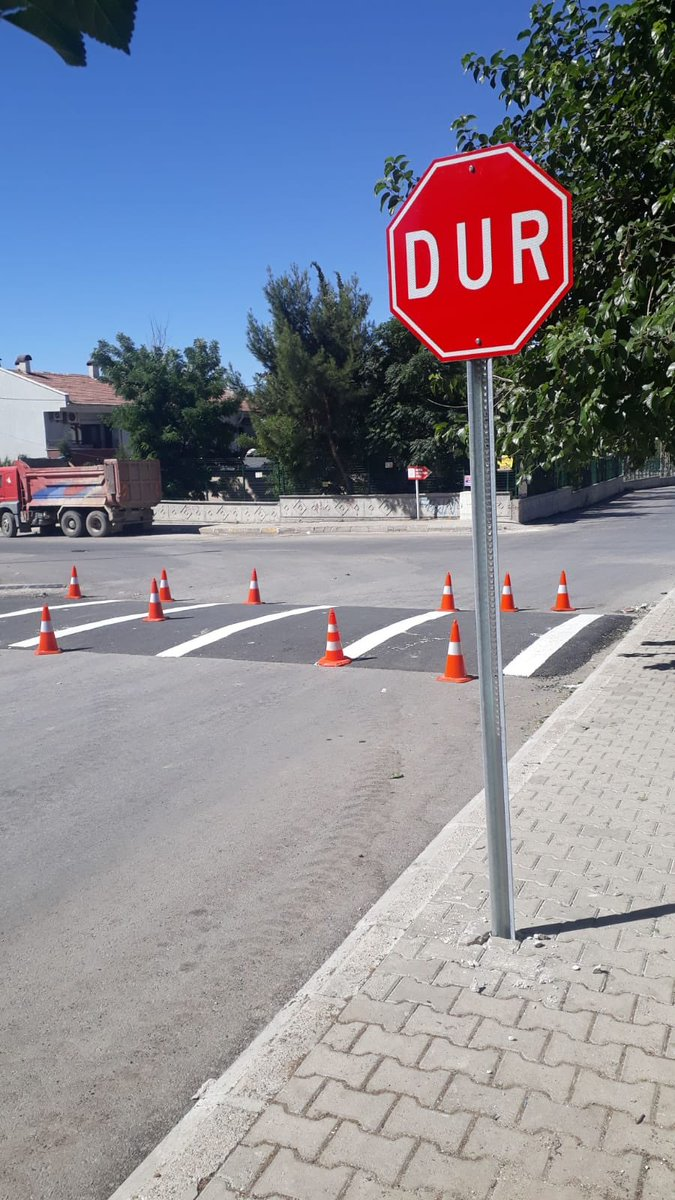dur: (385, 146, 571, 367)
kamyon: (0, 431, 180, 558)
